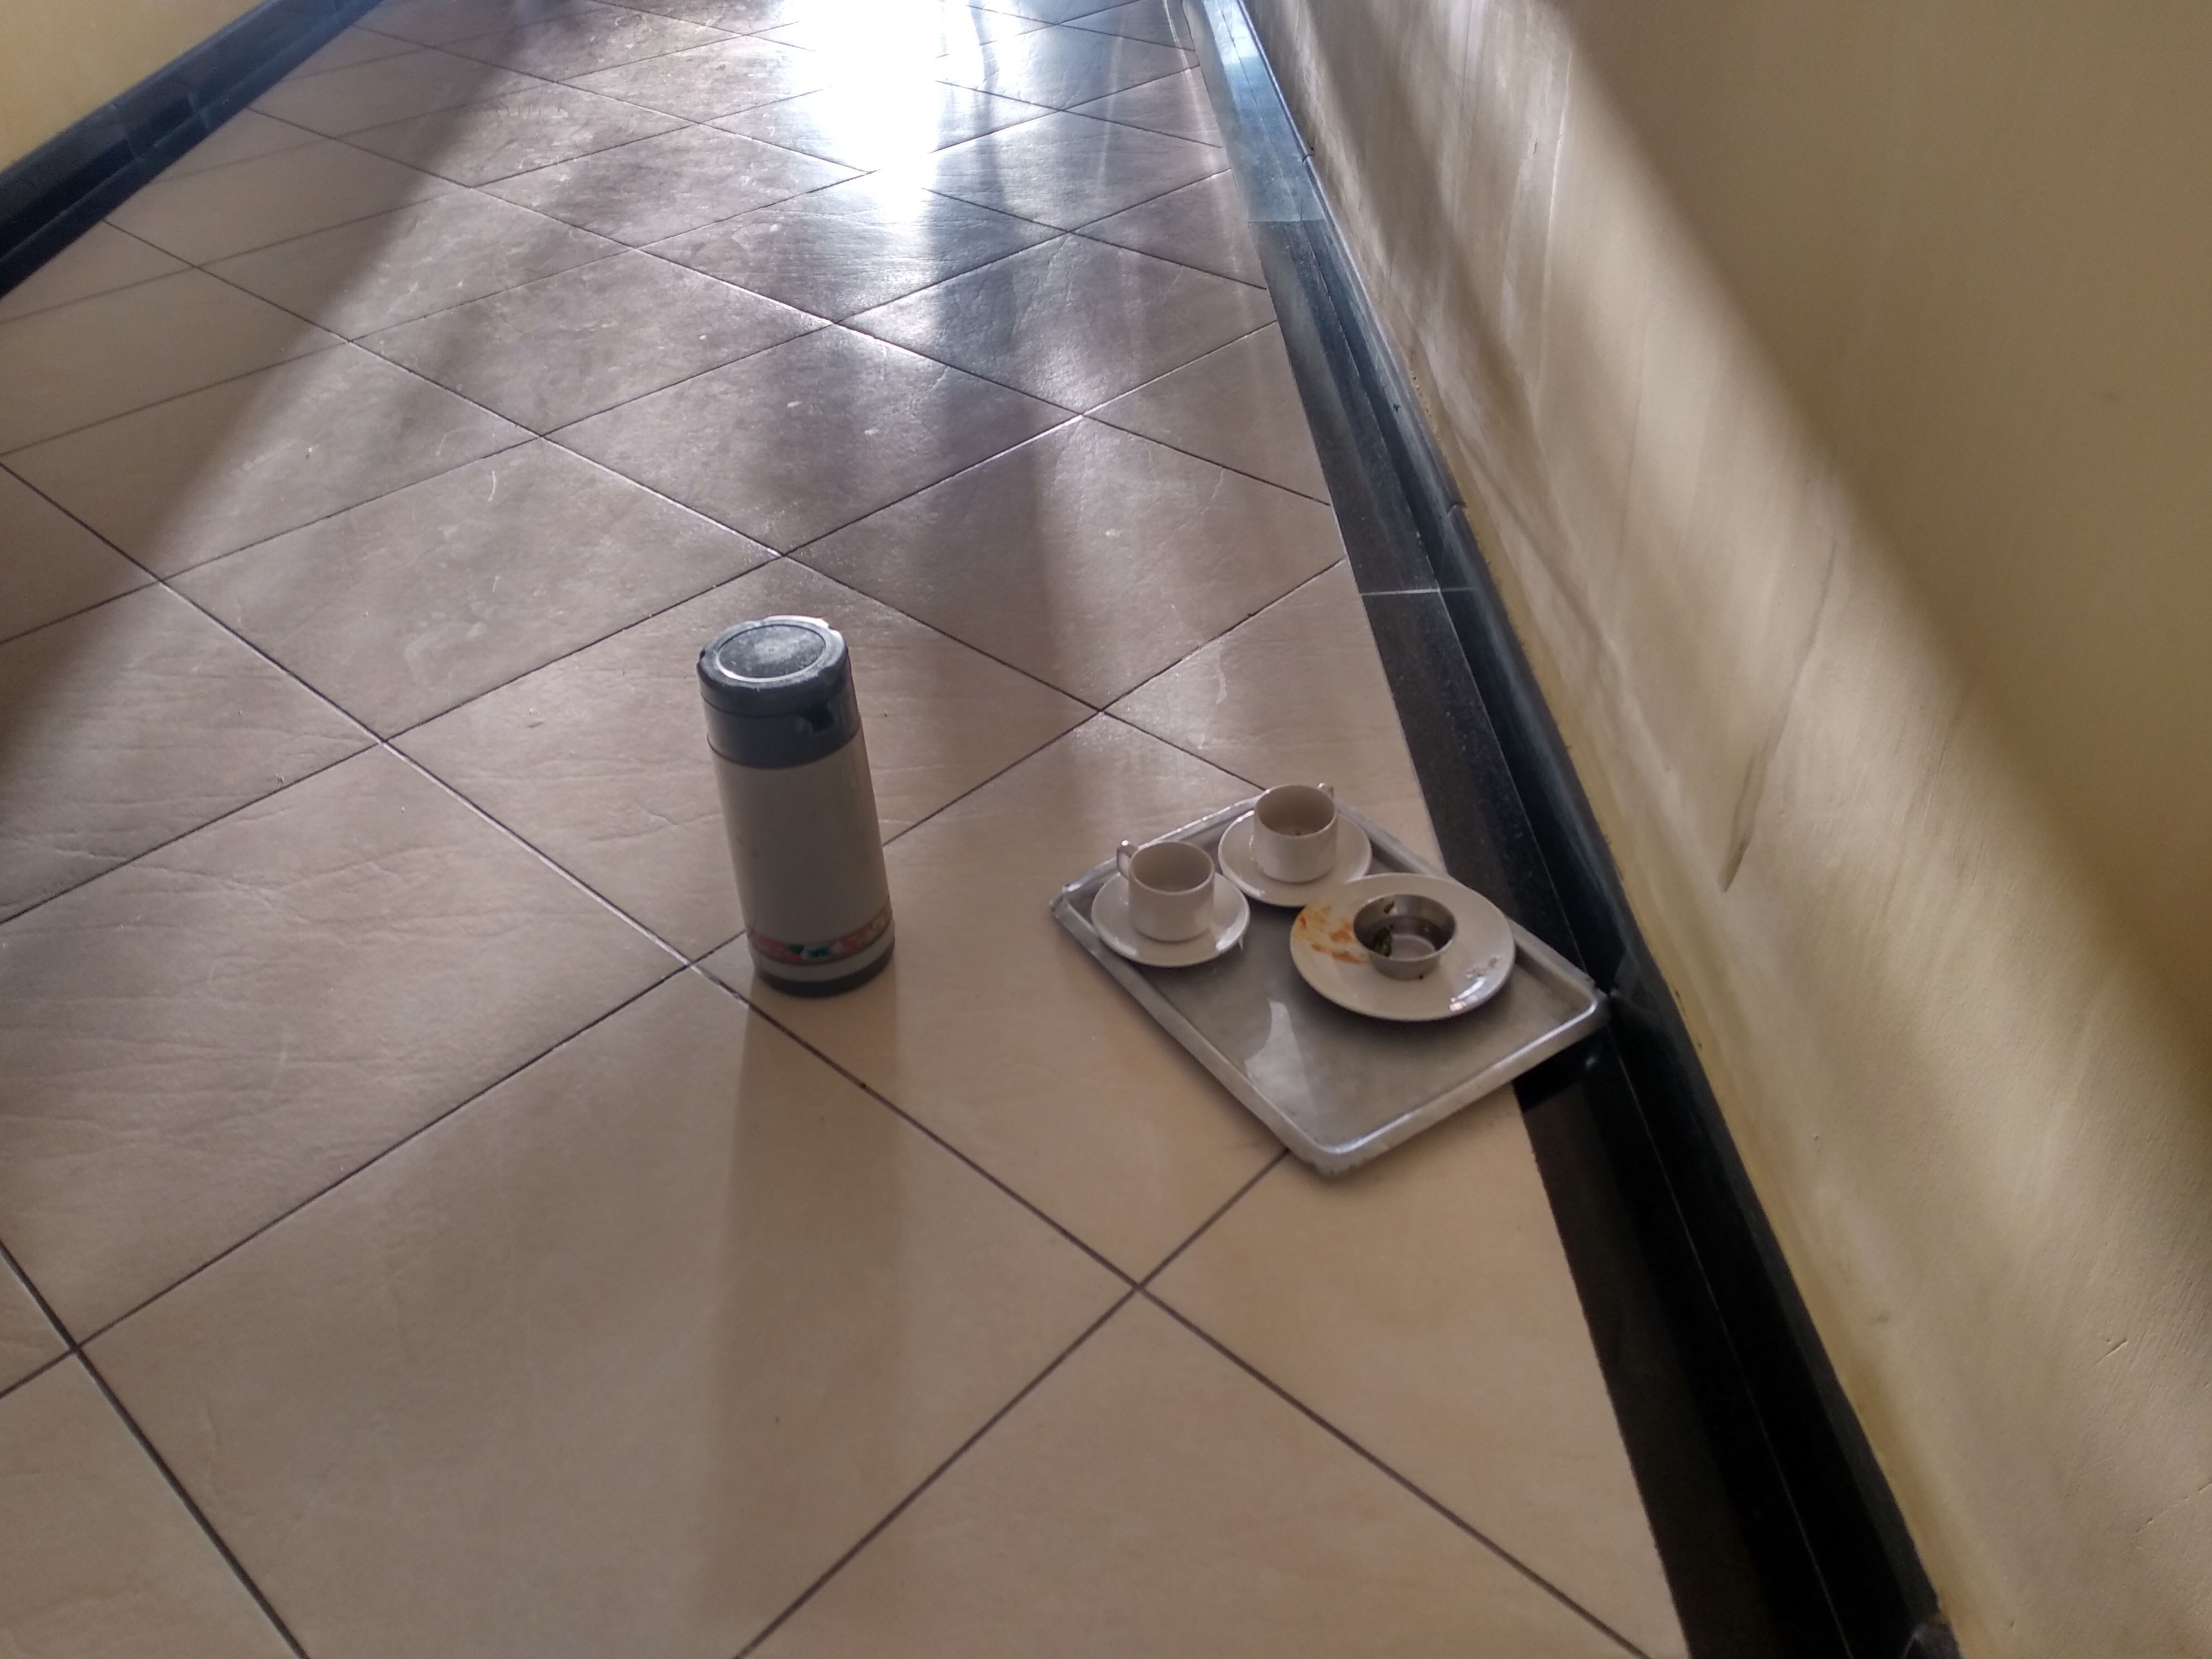CUP: (1103, 833, 1244, 978), (1231, 767, 1360, 896), (1355, 894, 1454, 974)
JUG: (678, 615, 904, 993)
